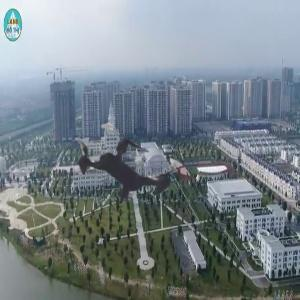drone: (39, 86, 205, 252)
